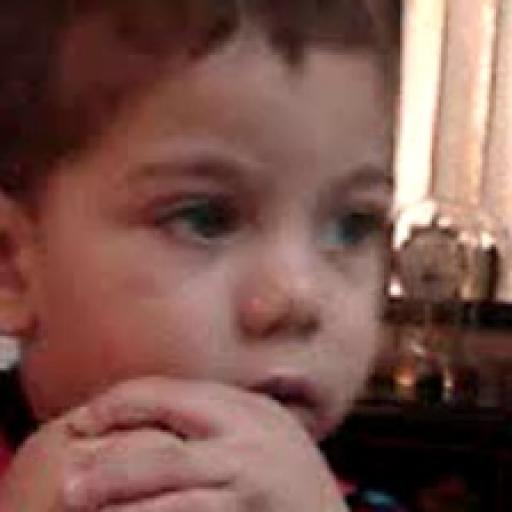Autism: (12, 2, 410, 463)
